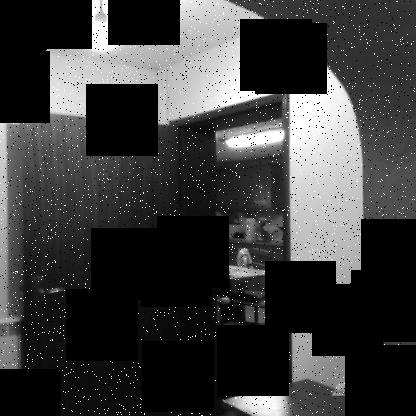Porte: (19, 88, 290, 416)
